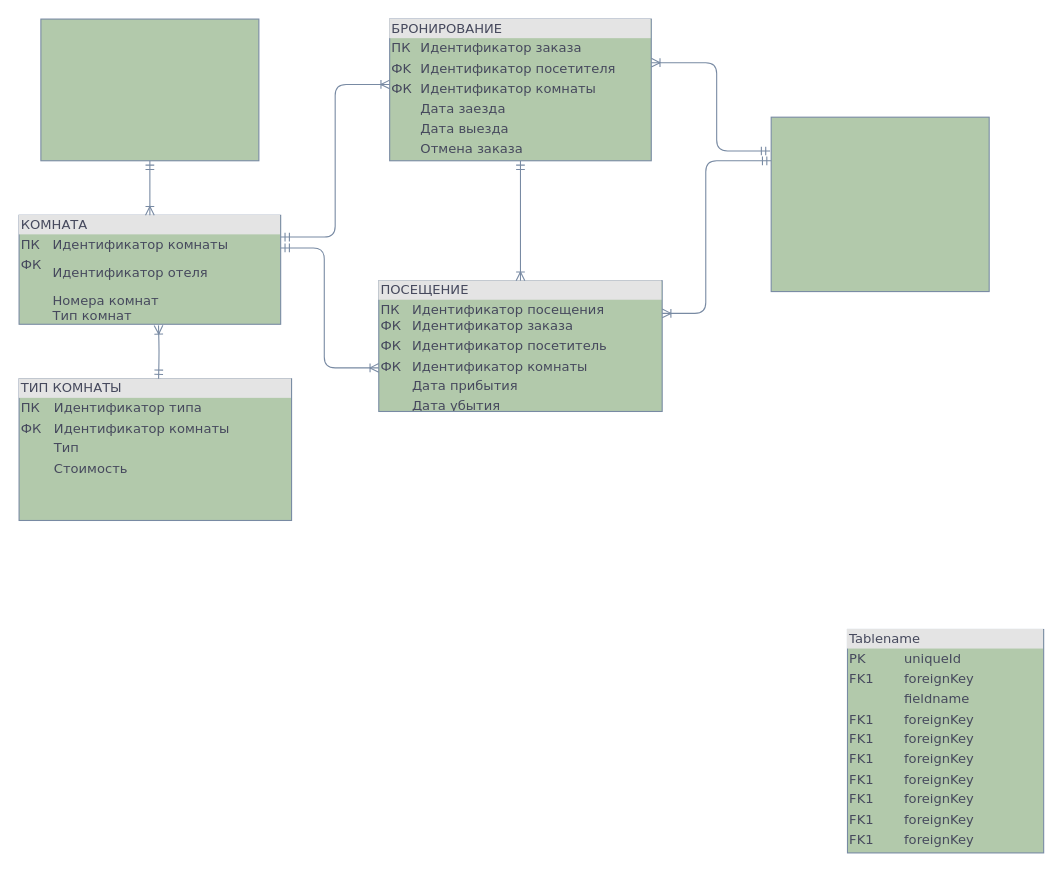
Some shapes in this 1063 by 872 pixel diagram are drawn without their labels. The box of each missing label's shape, as (x1, y1, x2, y2) in pixels:
ОТЕЛЬ ПК Идентификатор отеля Название отеля Город Улица Дом: (40, 18, 259, 161)
ПОСЕТИТЕЛЬ ПK Идентификатор посетителя Фамилия Имя Отчество Город Улица Дом: (770, 116, 989, 292)
